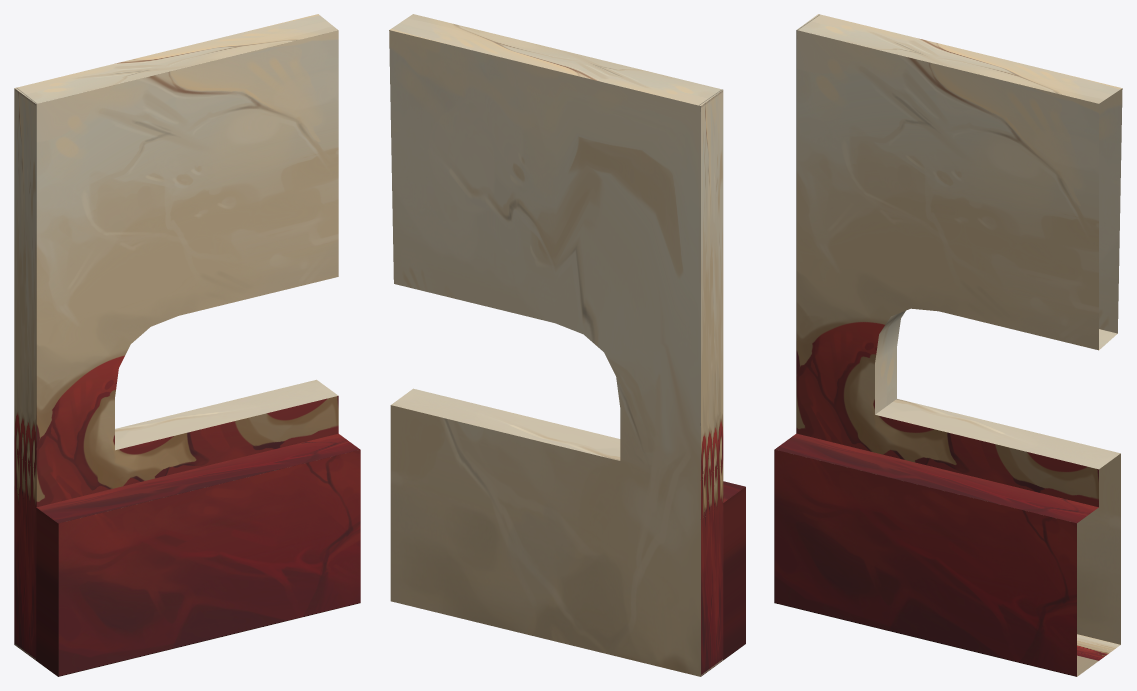
The model's file is Modulaire_FenetreGrande2.fbx.
3 views of the same model, side by side, from view 1: azimuth 30°, elevation 25°; view 2: azimuth 150°, elevation 25°; view 3: azimuth 330°, elevation 25° (orthographic). The views are drawn at different scales.
Parts seen in each view (by area): view 1: Box004; view 2: Box004; view 3: Box004.
Part boxes in pixels (<box>): Box004: <box>14,14,360,676</box>; Box004: <box>389,14,745,676</box>; Box004: <box>774,14,1122,676</box>.
Size of the model in its own units: 1 by 1.75 by 0.25.
